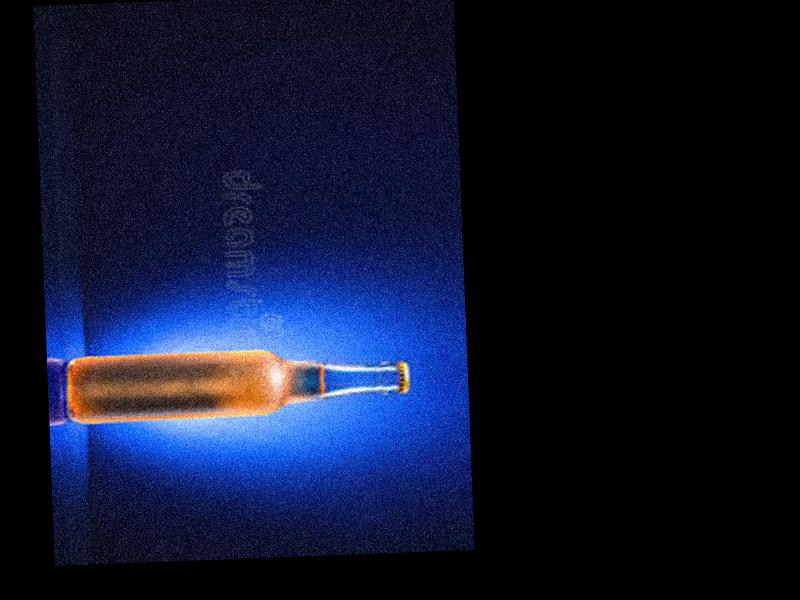Beer: (66, 342, 410, 427)
